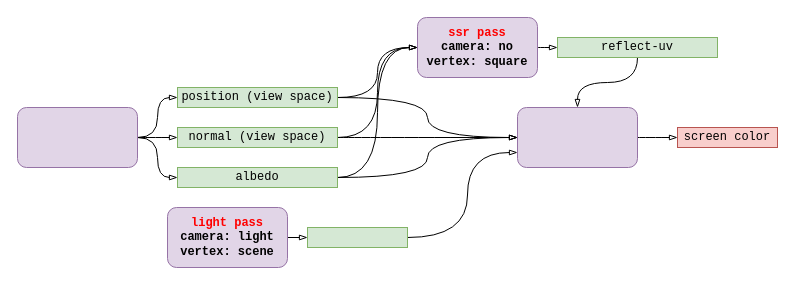
Image size: 795x285. Some labels were removed from this diagram. The shapes that lost their labels are listed below. From the top down, each one's centre as x and y in pixels, then its label:
(x=77, y=137): geometry pass camera: eye vertex: scene
(x=577, y=137): color pass camera: no vertex: square
(x=357, y=237): shadow map
